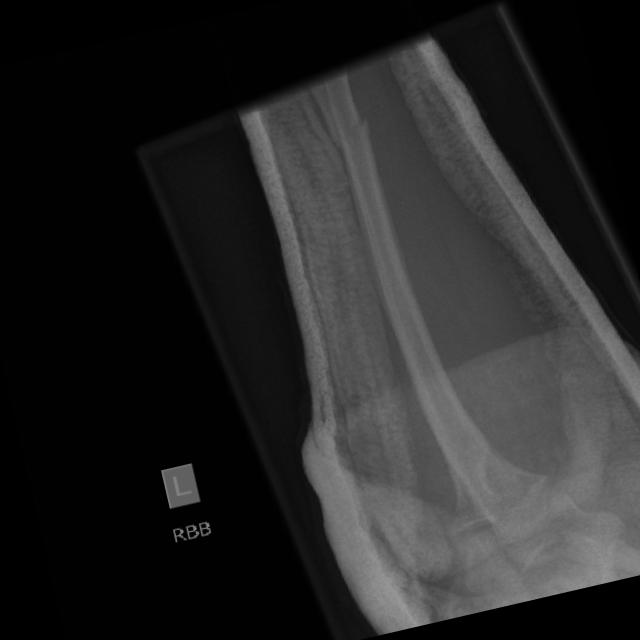forearm fracture: (298, 91, 401, 183)
